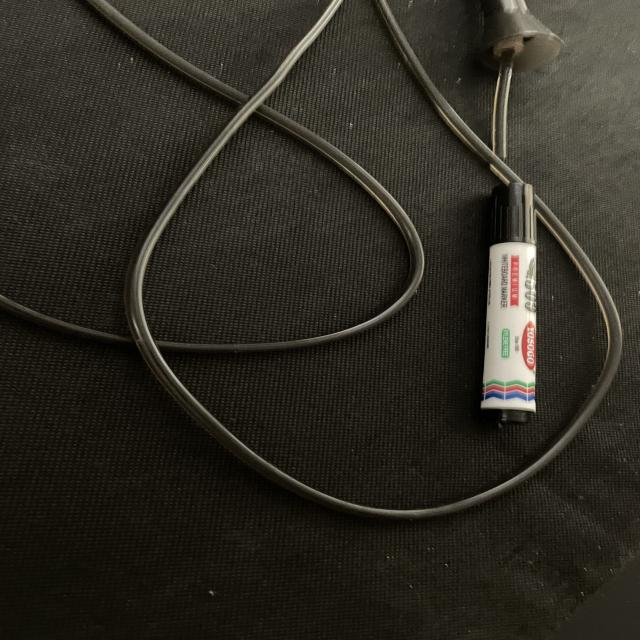marker: (480, 181, 537, 423)
